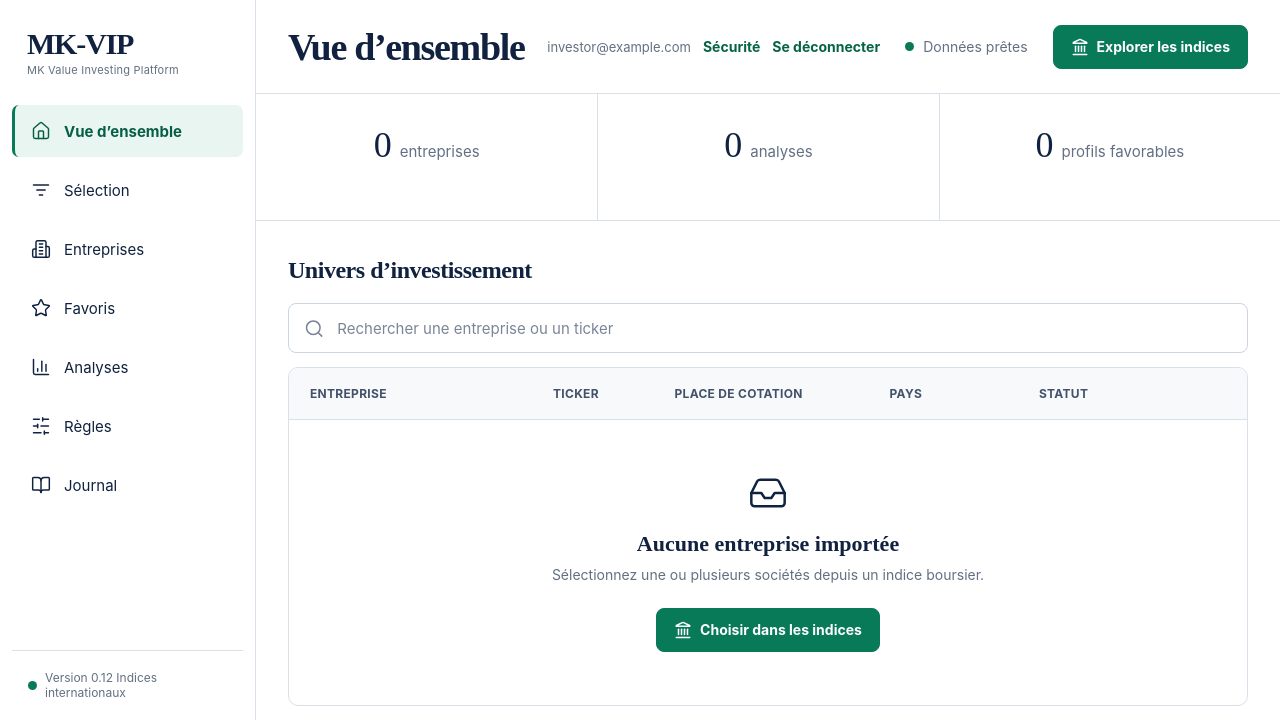
MK-VIP authentication › groups the ATHEX Composite under Greece in Europe
The width and height of the screenshot is (1280, 720).
Click the button "Explorer les indices" at (1150, 46), box [1053, 24, 1248, 68]
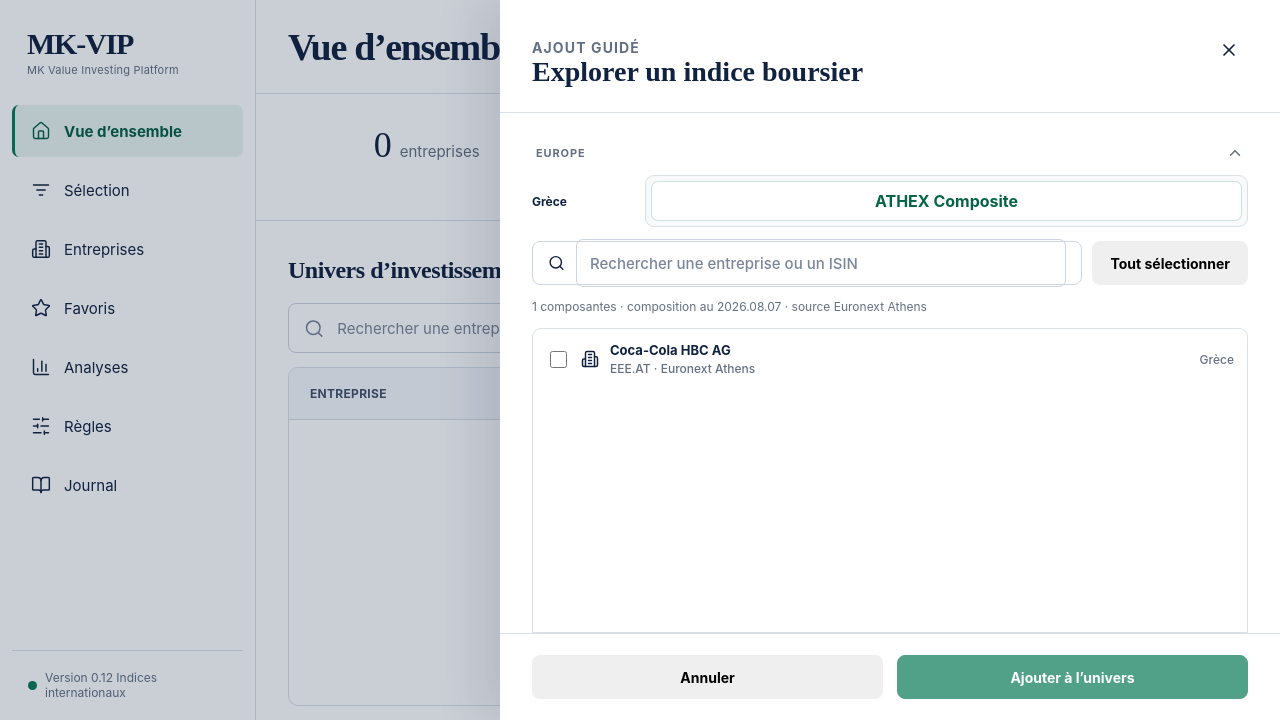
Expected: the element named "Indices Grèce" is shown, [645, 175, 1248, 227]
Expected: the checkbox labelled "Coca-Cola HBC AG EEE.AT · Euronext Athens Grèce" is shown, [550, 350, 567, 368]
Expected: the text "EEE.AT · Euronext Athens" is shown, [610, 361, 755, 376]
